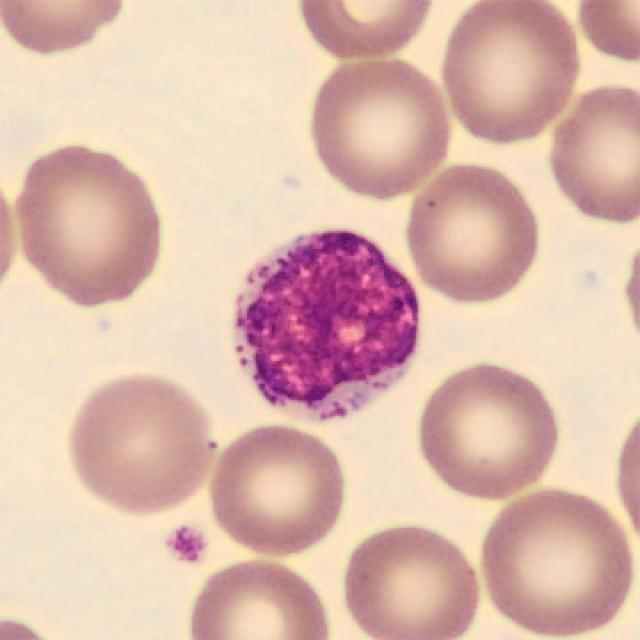Monocito: (236, 231, 416, 418)
